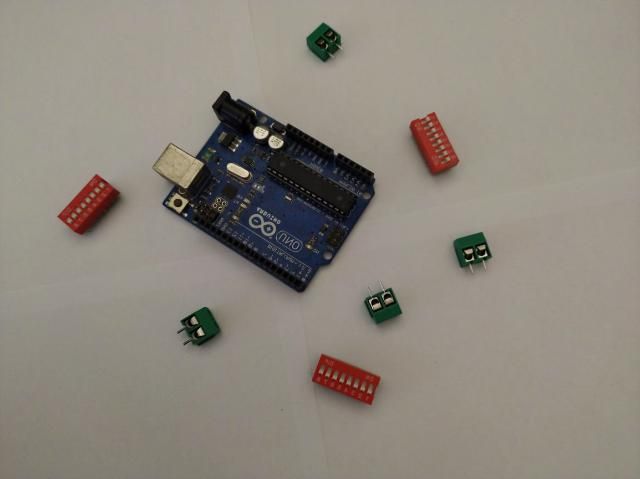arduino: (152, 90, 376, 292)
dip_switch: (58, 175, 120, 236), (312, 354, 381, 406), (410, 111, 460, 176)
terminal_block: (177, 308, 221, 350), (453, 232, 492, 276), (363, 283, 402, 326), (306, 23, 344, 63)
